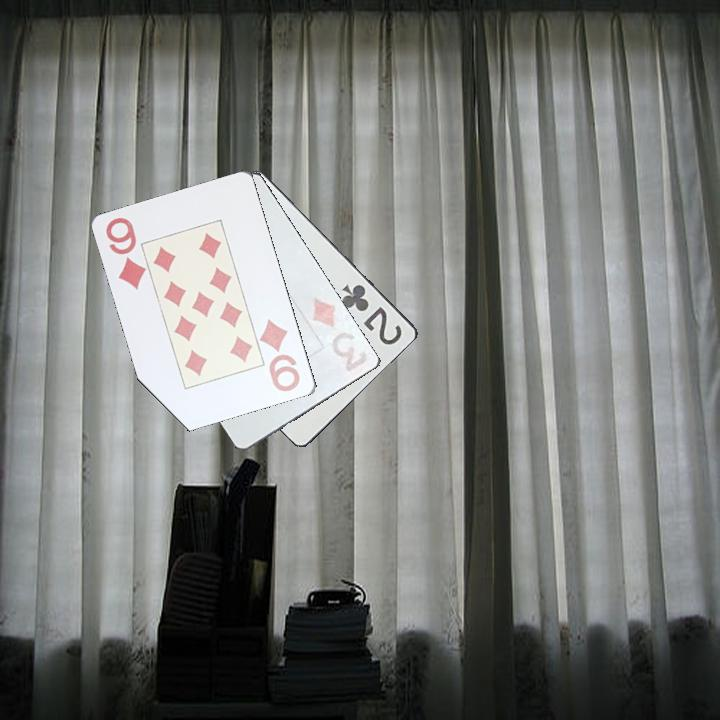2c: (338, 280, 406, 348)
3d: (306, 294, 372, 379)
9d: (257, 316, 303, 395), (103, 214, 149, 293)
